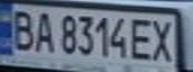1: (93, 14, 112, 57)
3: (75, 12, 93, 56)
4: (109, 13, 130, 60)
8: (54, 11, 78, 55)
A: (30, 8, 57, 53)
B: (6, 7, 39, 52)
E: (127, 15, 157, 61)
X: (148, 16, 178, 63)
